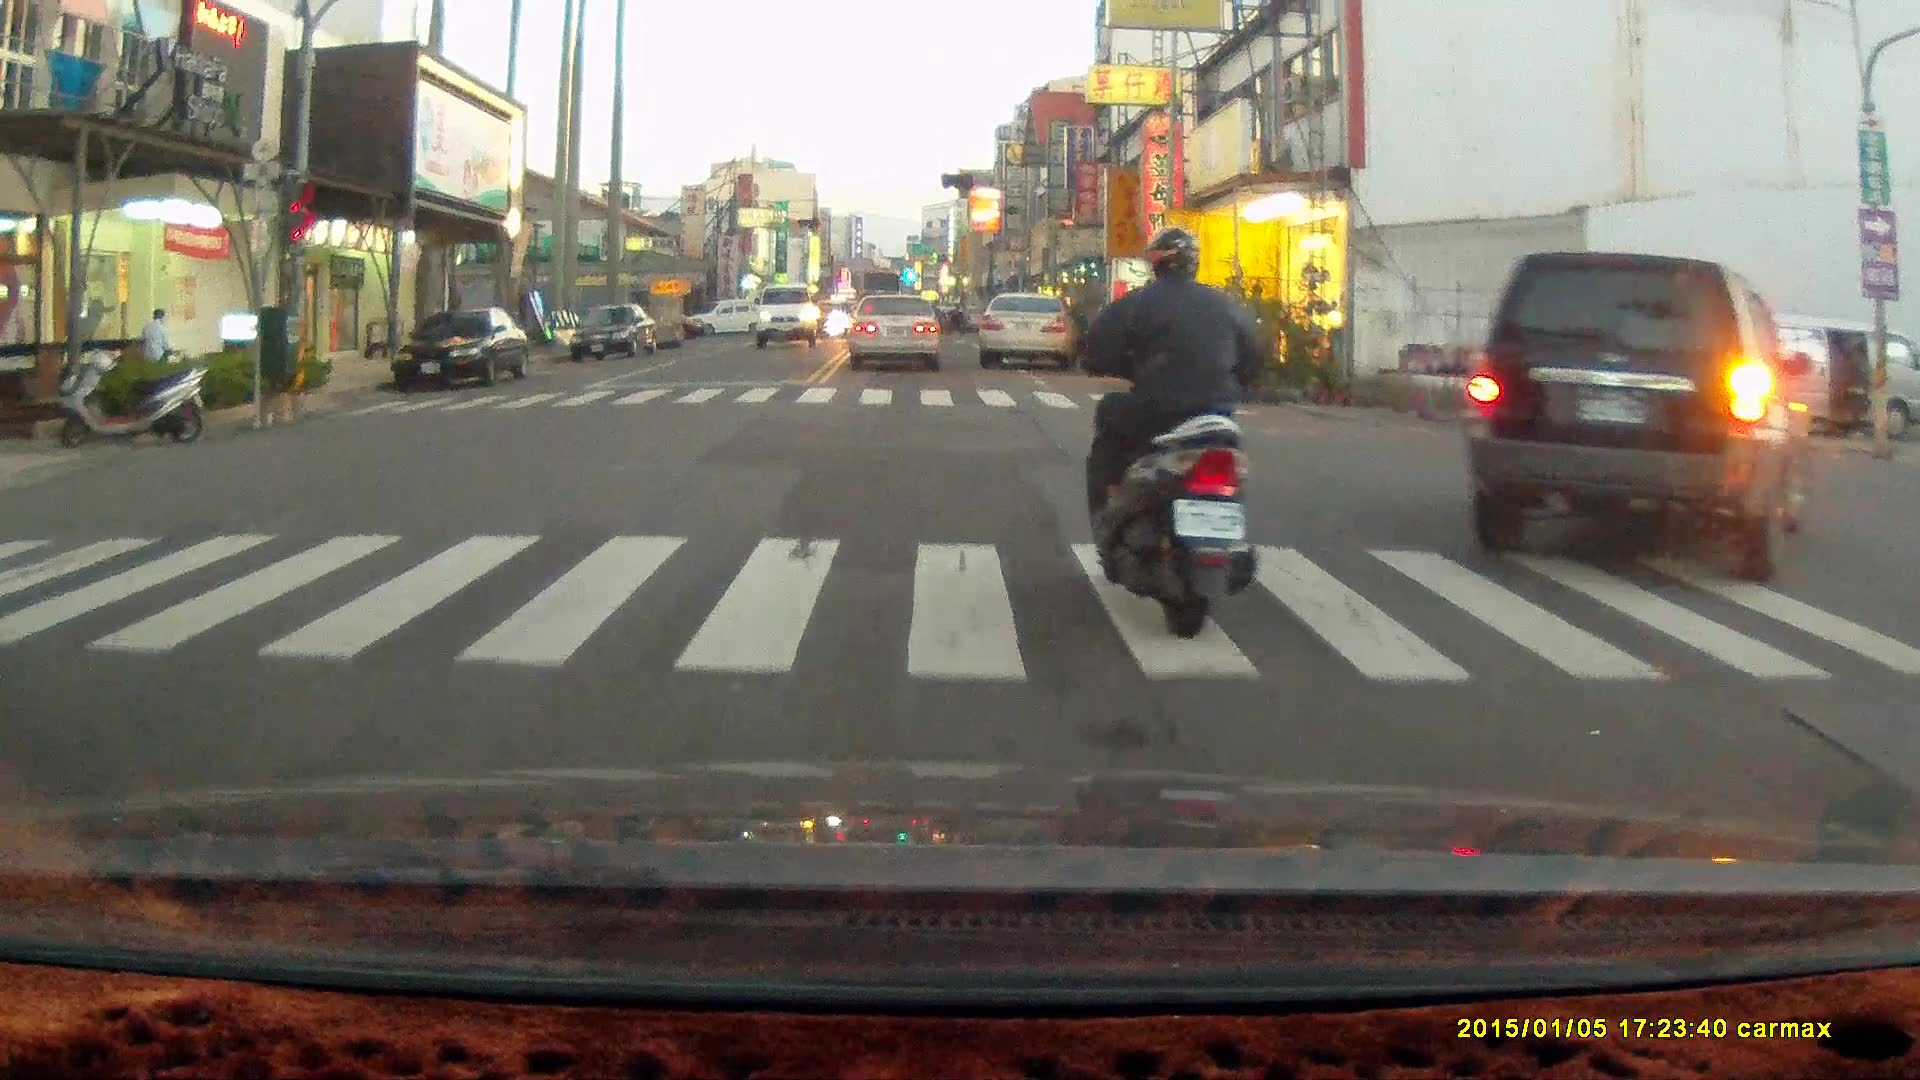pedestrian: (138, 304, 175, 372), (1844, 340, 1869, 431)
rider: (1073, 224, 1257, 637)
vehicle: (1466, 255, 1809, 582), (1714, 312, 1920, 439), (396, 310, 528, 402), (976, 293, 1081, 372), (848, 293, 943, 370), (568, 298, 659, 360), (757, 284, 821, 352)
